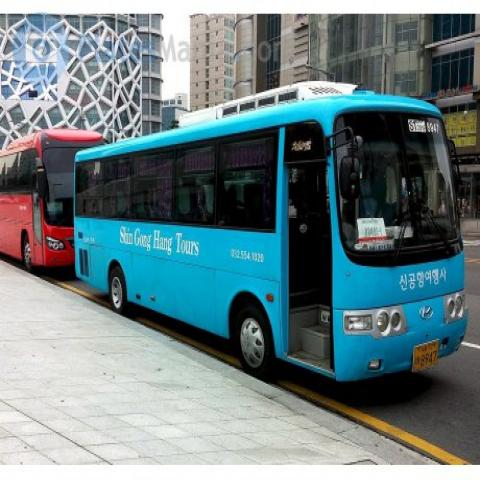LP: (406, 325, 444, 380)
